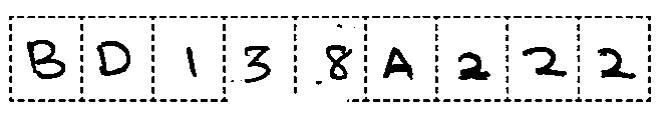1: (175, 42, 210, 86)
2: (519, 41, 571, 86), (593, 41, 638, 85), (454, 45, 495, 87)
3: (235, 39, 274, 87)
8: (320, 39, 356, 86)
A: (376, 41, 422, 87)
B: (21, 36, 70, 83)
D: (93, 36, 136, 84)
